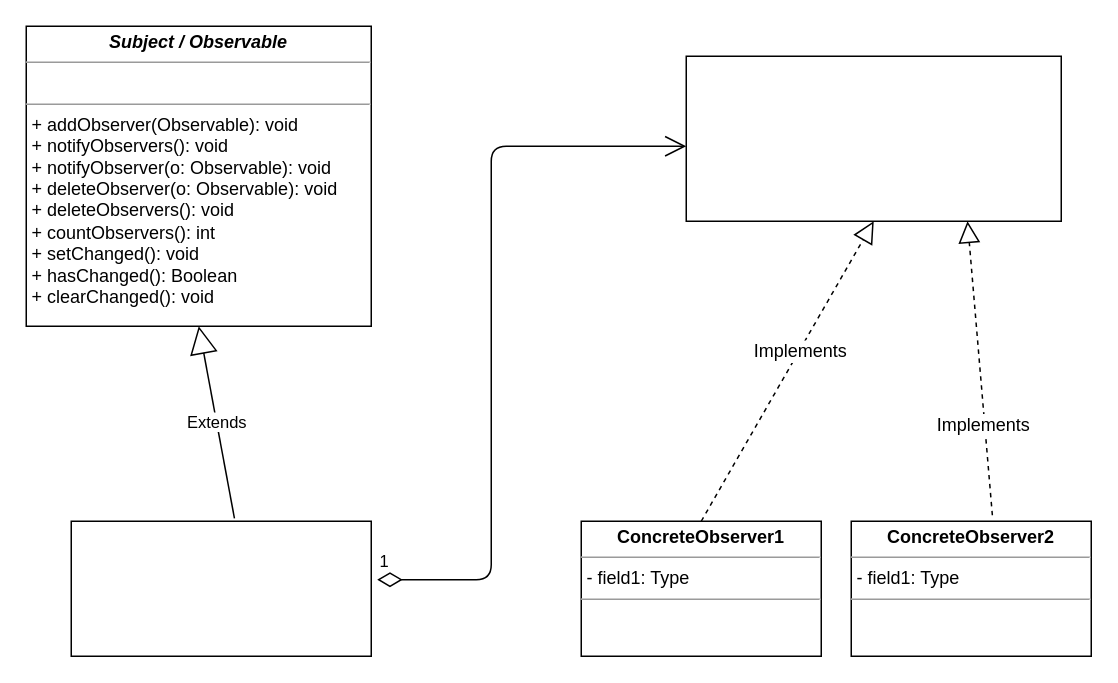
Some shapes in this 1118 by 683 pixel diagram are drawn without their labels. The centre of each missing label's shape, as x and y in pixels:
<<Interface>> Observer + update(o:Observable, arg:Object): void: (873,138)
ConcreteSubject - observers: List<Observer>: (220,588)
